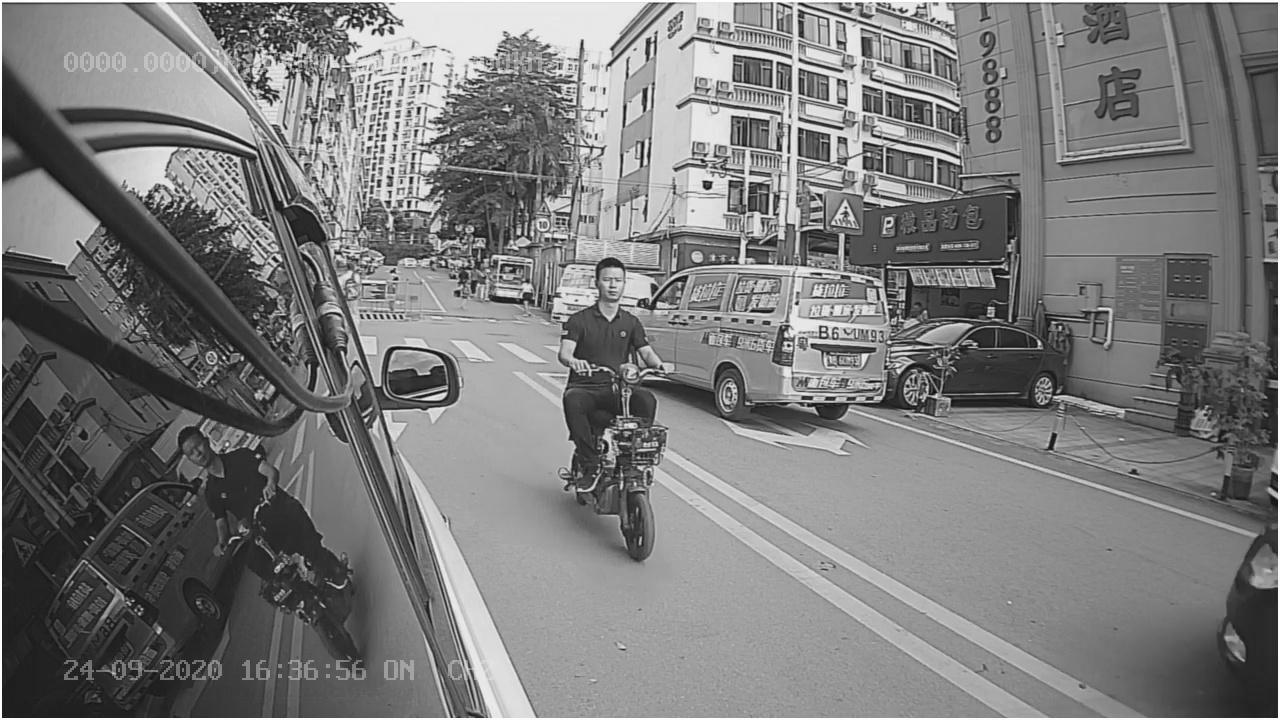person: (518, 242, 692, 573)
